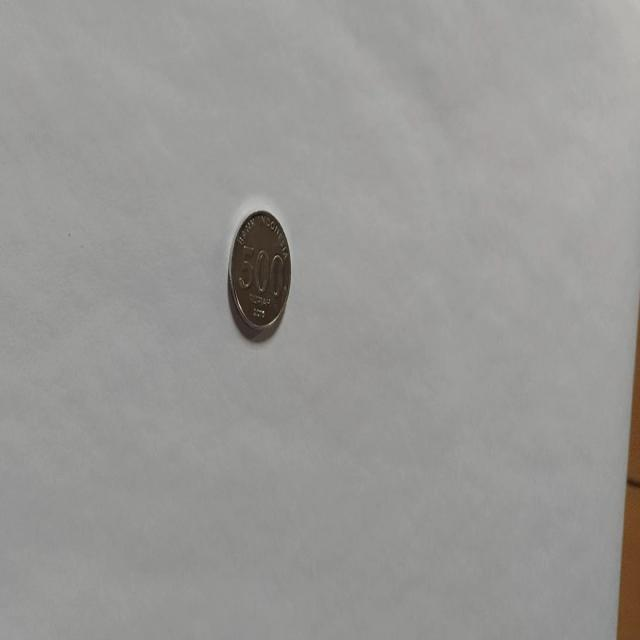lima ratus rupiah: (226, 208, 292, 340)
